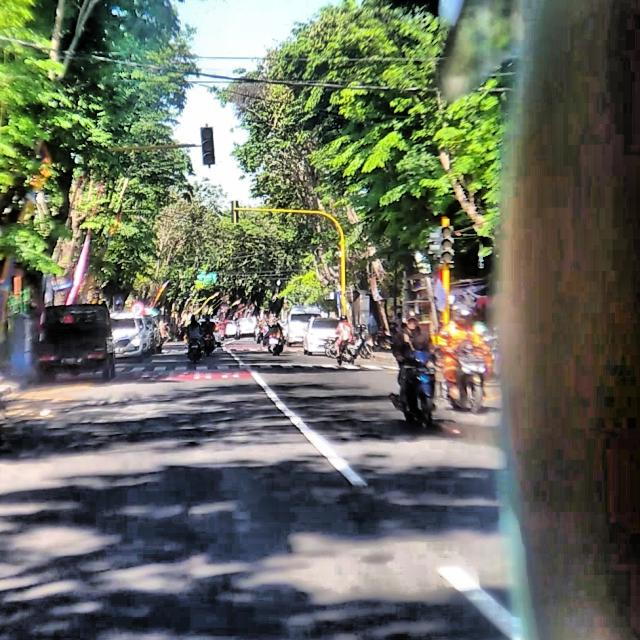yellow: (201, 125, 216, 167), (441, 226, 455, 270)
